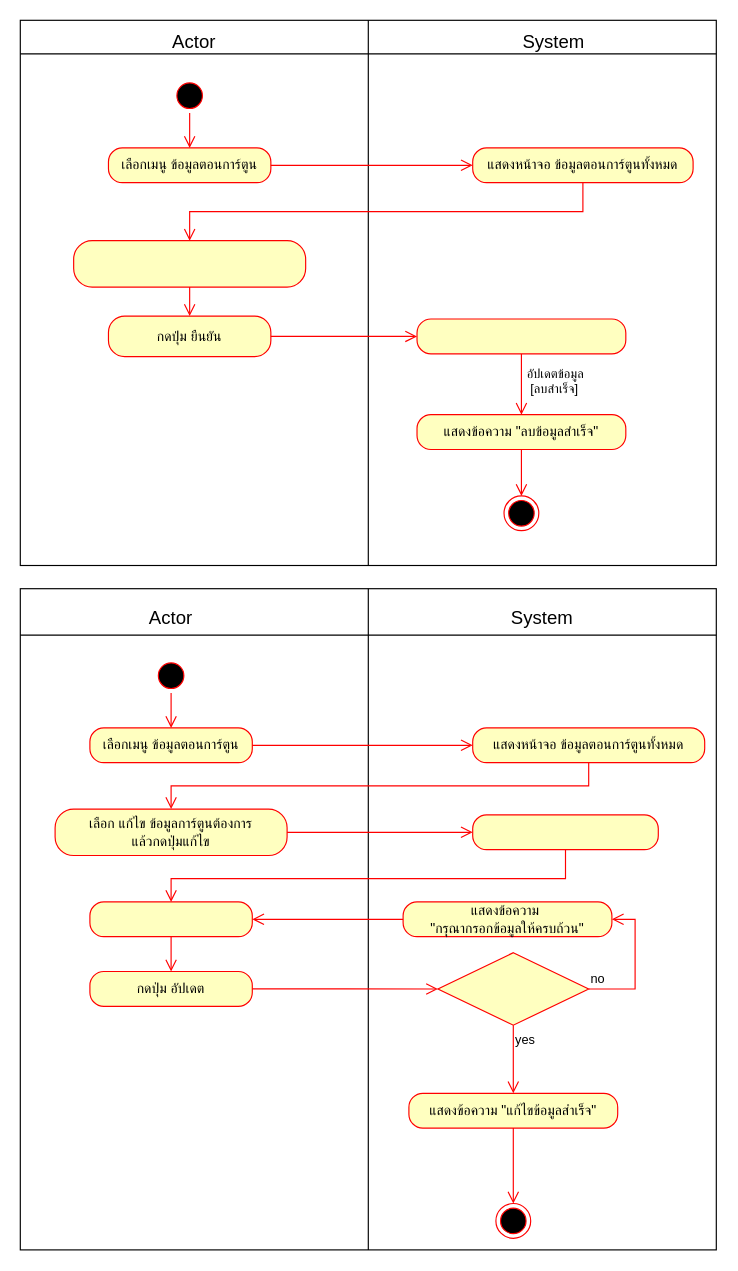
Image size: 738x1271. Some labels were removed from this diagram. The box of each missing label's shape, as (x1, y1, x2, y2) in pixels:
ตรวจสอบความถูกต้อง: (437, 952, 589, 1025)
ป้อนข้อมูล: (89, 901, 252, 937)
ลบข้อมูลตอนการ์ตูน: (416, 318, 626, 354)
เลือก ลบ ข้อมูลตอนการ์ตูนใช้ที่ต้องการ แล้วกดปุ่มลบ: (72, 240, 306, 287)
แสดงหน้าจอให้กรอกข้อมูล: (472, 814, 658, 850)
